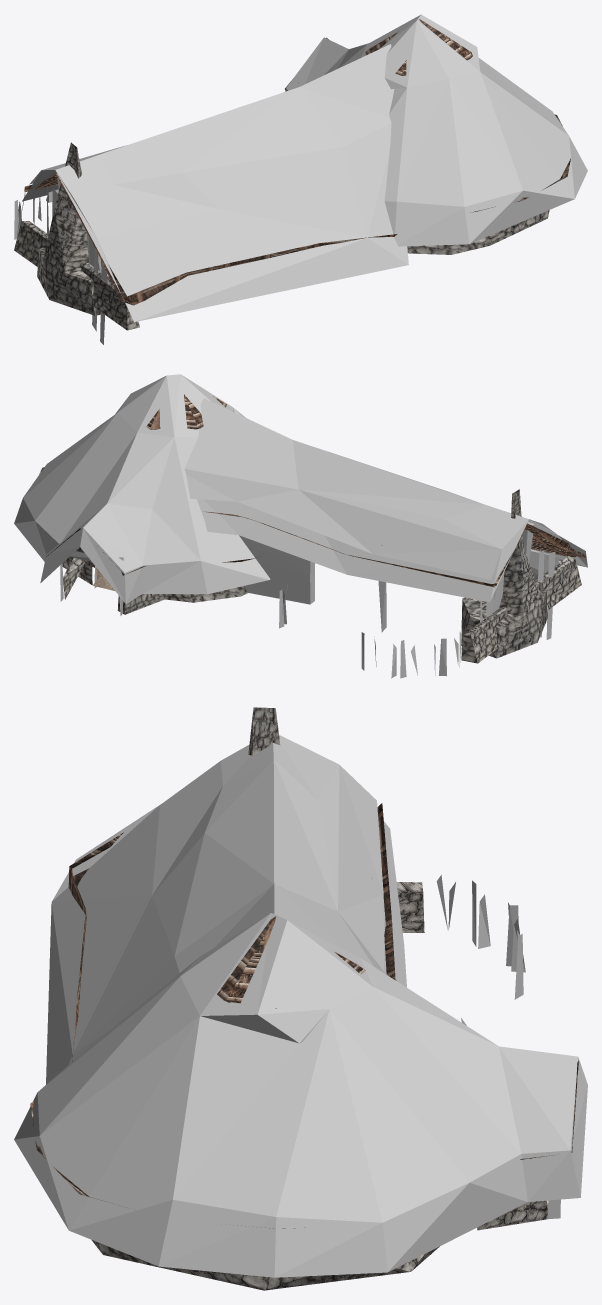
The model's file is Smith_1_LOD4.fbx.
The picture shows the model from 3 angles, top to bottom: view 1: azimuth 30°, elevation 25°; view 2: azimuth 150°, elevation 25°; view 3: azimuth 270°, elevation 25°; orthographic projection. The views are drawn at different scales.
Visible parts, largest first — view 1: Alpha, Stone, Roof, Wood; view 2: Alpha, Stone, Wood, Roof; view 3: Alpha, Stone, Roof, Wood.
Part boxes in pixels (<box>): Alpha: <box>22,14,587,322</box>; Stone: <box>14,142,549,330</box>; Roof: <box>24,19,570,305</box>; Wood: <box>14,78,300,344</box>; Alpha: <box>14,374,587,603</box>; Stone: <box>62,489,581,663</box>; Wood: <box>60,522,559,678</box>; Roof: <box>39,394,586,587</box>; Alpha: <box>14,735,587,1277</box>; Stone: <box>91,707,547,1290</box>; Roof: <box>30,803,578,1228</box>; Wood: <box>370,875,560,1219</box>.
Size of the model in its own units: 3146 by 1905 by 1242.
